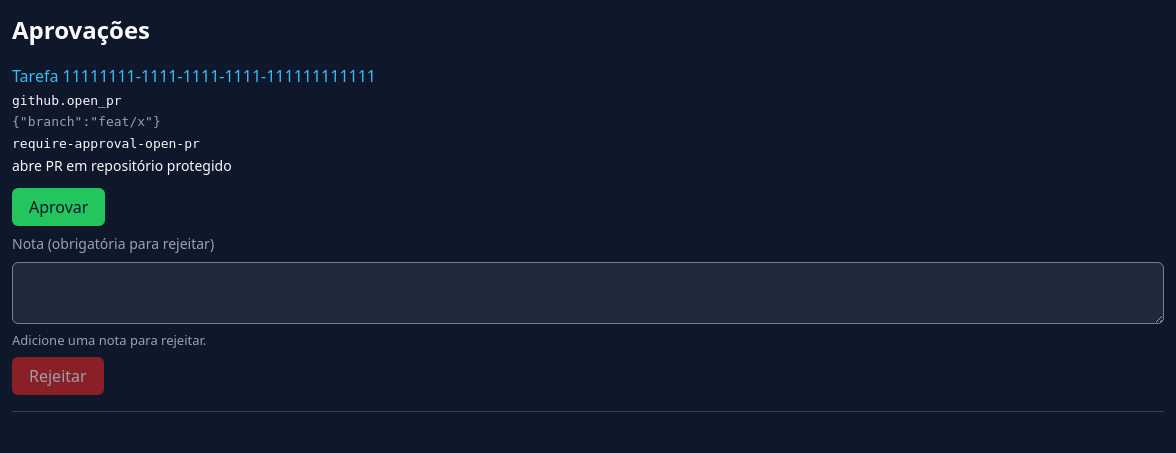
Test: Approvals (Decision Queue) › handles a 409 (already decided by someone else) without crashing
Expected: the text "github.open_pr" is shown, [12,93,122,108]
Click the button "Aprovar".
click(59, 207)  # box [12,188,105,226]
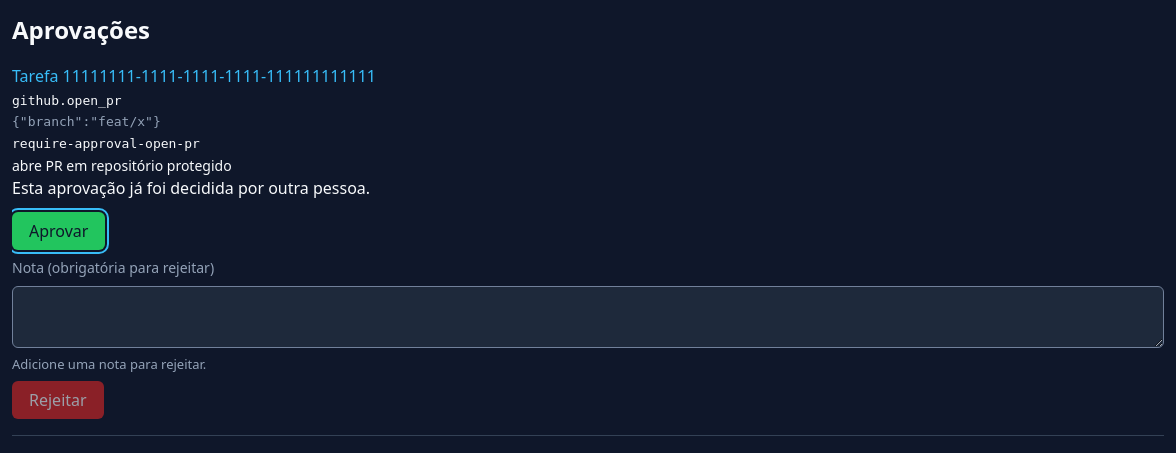
Expected: the text "Esta aprovação já foi decidida por outra pessoa." is shown, [12,177,370,199]
